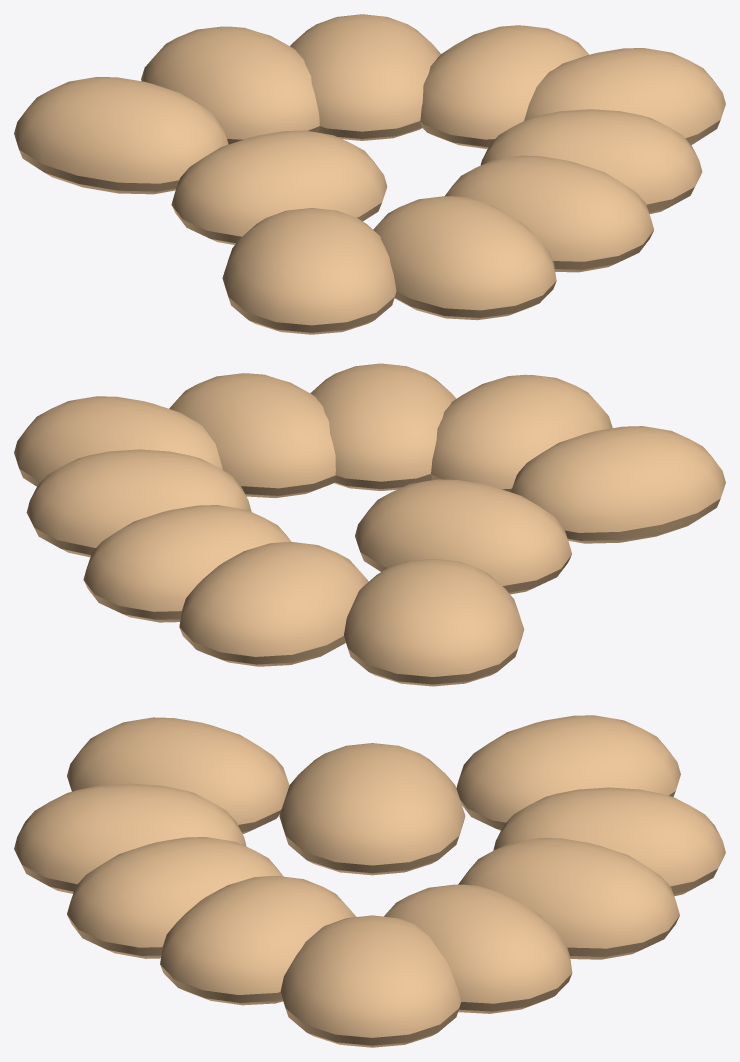
File: CakeFillMeringue.glb
The picture shows the model from 3 angles, top to bottom: view 1: azimuth 30°, elevation 25°; view 2: azimuth 150°, elevation 25°; view 3: azimuth 270°, elevation 25°; orthographic projection. The views are drawn at different scales.
Visible parts, largest first — view 1: Cube.031, Cube.027, Cube.026, Cube.029, Cube.025, Cube.033, Cube.032, Cube.034, Cube.024, Cube.035; view 2: Cube.027, Cube.031, Cube.032, Cube.029, Cube.034, Cube.024, Cube.033, Cube.025, Cube.026, Cube.035; view 3: Cube.029, Cube.035, Cube.033, Cube.024, Cube.031, Cube.034, Cube.027, Cube.025, Cube.026, Cube.032.
Boxes of the visible parts, x1,y1,x2,y2 form: Cube.031: (14,77,228,194); Cube.027: (222,208,396,334); Cube.026: (373,196,556,320); Cube.029: (171,130,387,244); Cube.025: (445,155,653,272); Cube.033: (290,14,440,140); Cube.032: (141,26,319,144); Cube.034: (420,25,589,148); Cube.024: (480,109,702,213); Cube.035: (524,48,725,144); Cube.027: (511,426,725,543); Cube.031: (344,559,524,686); Cube.032: (179,542,368,666); Cube.029: (355,479,571,594); Cube.034: (26,449,251,557); Cube.024: (169,373,335,498); Cube.033: (83,505,291,622); Cube.025: (310,363,456,490); Cube.026: (431,374,612,492); Cube.035: (14,396,222,486); Cube.029: (279,743,465,875); Cube.035: (280,915,460,1047); Cube.033: (458,838,679,959); Cube.024: (160,876,356,1005); Cube.031: (456,715,680,830); Cube.034: (384,884,572,1013); Cube.027: (67,717,289,833); Cube.025: (67,837,283,958); Cube.026: (14,783,246,893); Cube.032: (493,787,725,896).
Bounding box in the file's own units: 1.55 × 0.1988 × 1.57.
